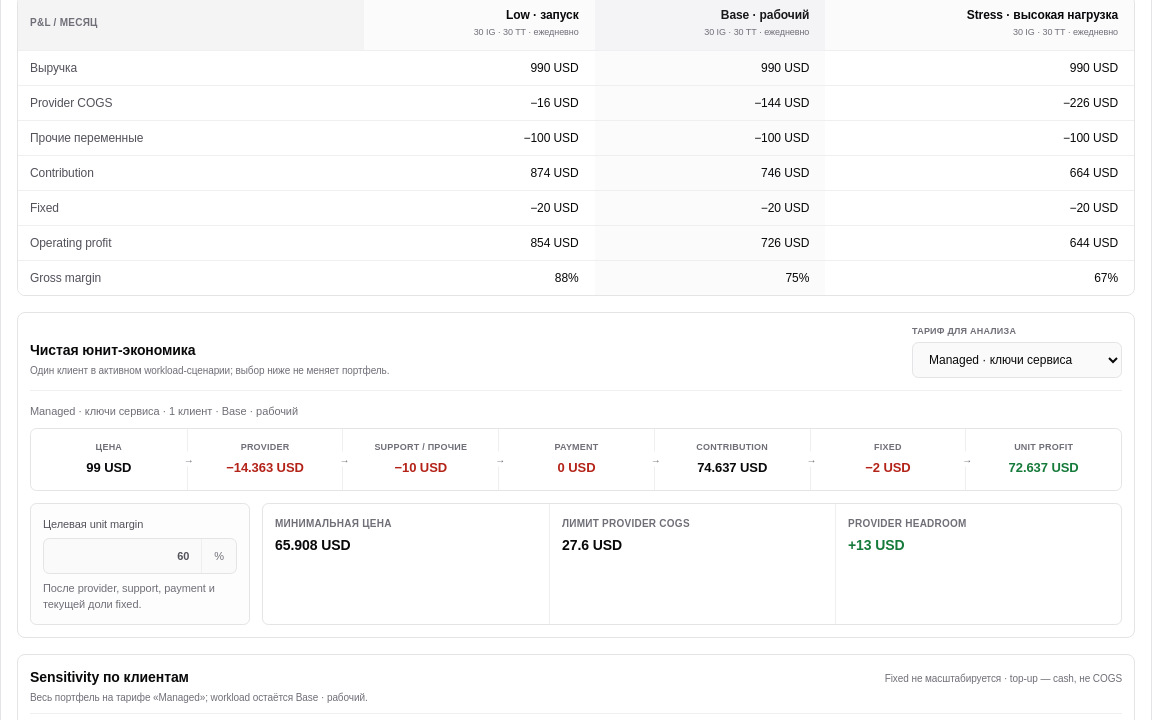
TrendWatcher financial model › выбирает тариф для анализа без изменения состава портфеля
This screenshot has width=1152, height=720.
(page scrolled)
Select "BYO keys · ключи клиента" in the dropdown named "Тариф для юнит-экономики": [1017, 360] box [912, 342, 1122, 378]
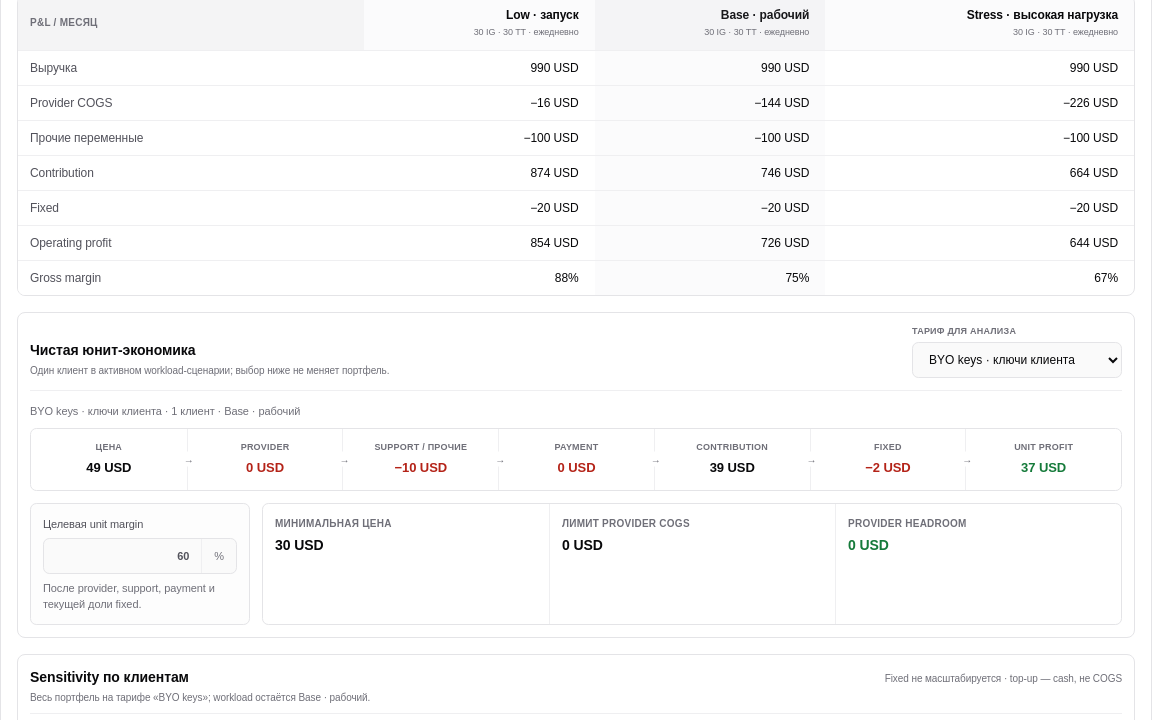
Now the text "BYO keys · ключи клиента · 1 клиент · Base · рабочий" is shown, box [30, 405, 300, 417]
